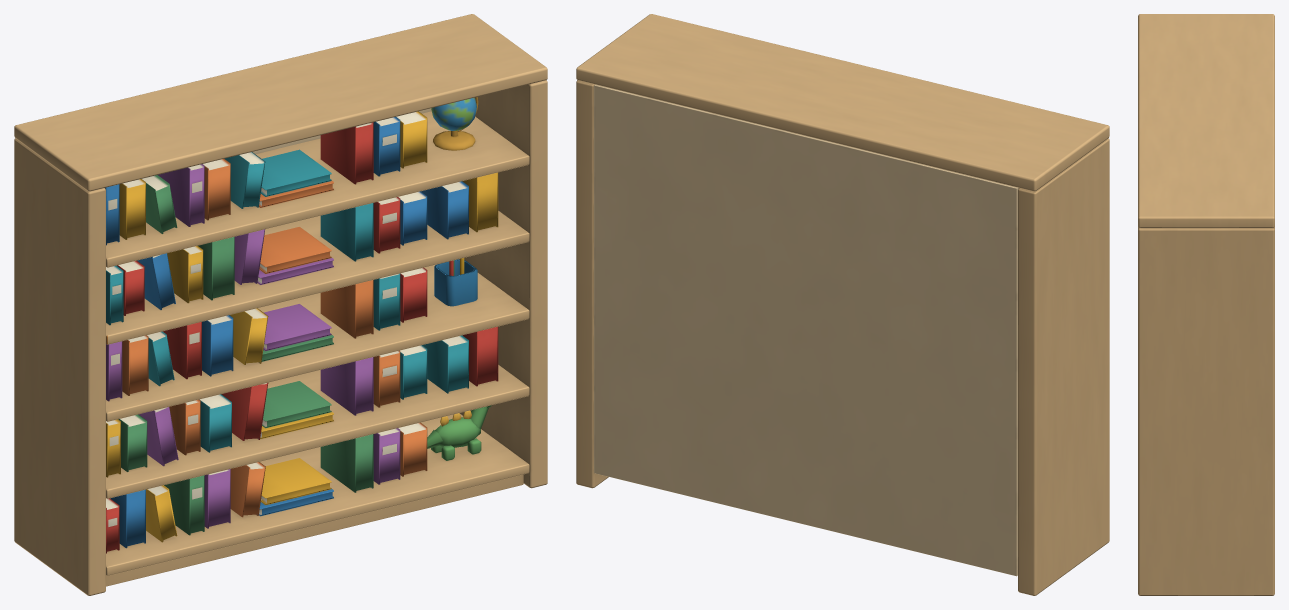
File: classroom-bookshelf.fbx
3 views of the same model, side by side, from view 1: azimuth 30°, elevation 25°; view 2: azimuth 150°, elevation 25°; view 3: azimuth 270°, elevation 25° (orthographic). The views are drawn at different scales.
Visible parts, largest first — view 1: classroom-bookshelf; view 2: classroom-bookshelf; view 3: classroom-bookshelf.
Boxes of the visible parts, x1=… form: classroom-bookshelf: x1=14, y1=14, x2=547, y2=595; classroom-bookshelf: x1=576, y1=14, x2=1109, y2=595; classroom-bookshelf: x1=1138, y1=14, x2=1274, y2=595.
Size of the model in its own units: 30000 by 26000 by 8500.
Materials: 1 (1 with a texture image).
